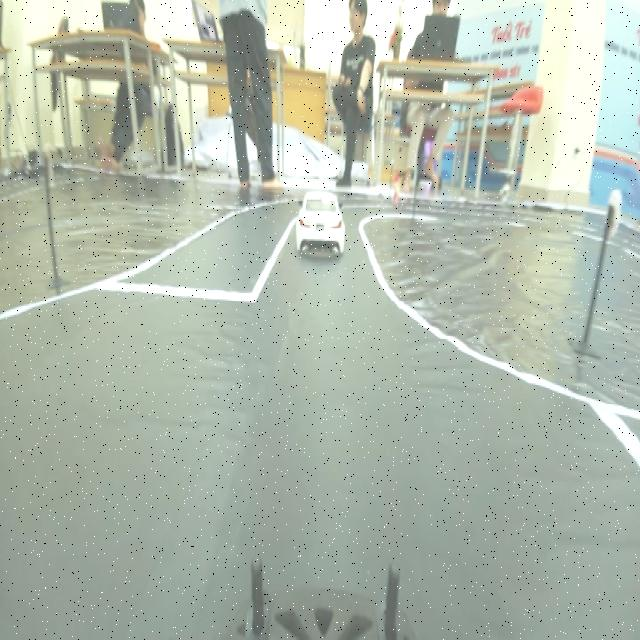car: (296, 177, 346, 256)
